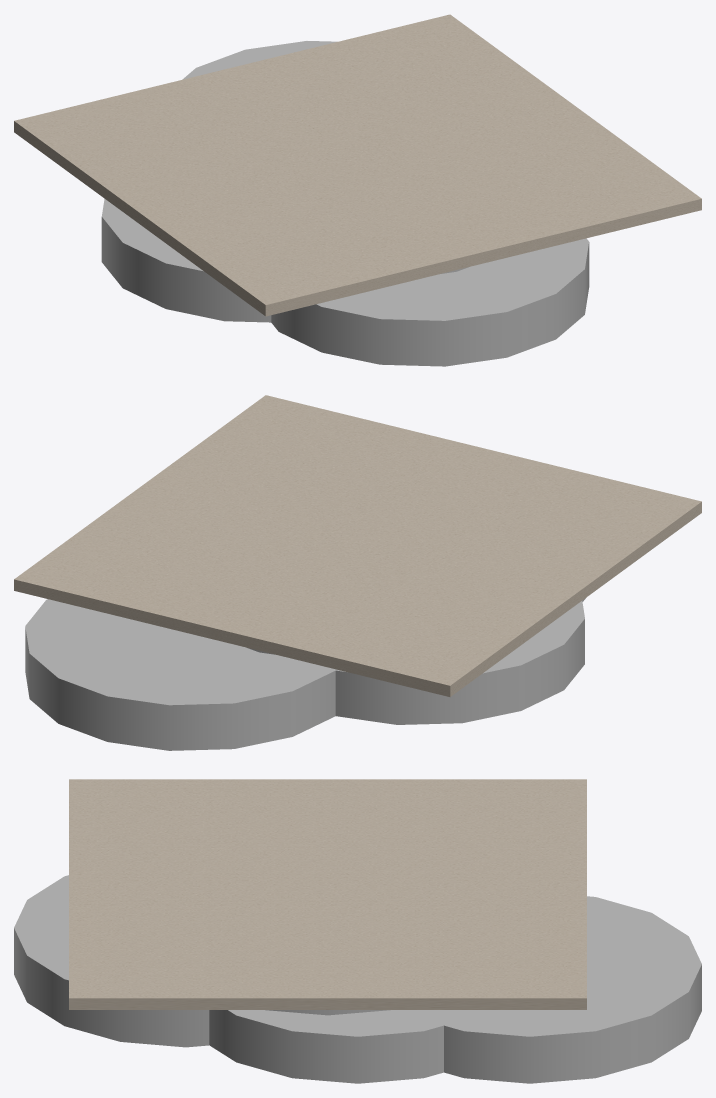
The model's file is cloud.fbx.
3 views of the same model, one above another, from view 1: azimuth 30°, elevation 25°; view 2: azimuth 150°, elevation 25°; view 3: azimuth 270°, elevation 25° (orthographic). The views are drawn at different scales.
Parts seen in each view (by area): view 1: Ceiling_Cloud; view 2: Ceiling_Cloud; view 3: Ceiling_Cloud.
Boxes of the visible parts, bbox=[...] form: Ceiling_Cloud: bbox=[14, 14, 701, 366]; Ceiling_Cloud: bbox=[14, 395, 701, 750]; Ceiling_Cloud: bbox=[14, 779, 701, 1083].
Bounding box in the file's own units: 2.01 × 0.374 × 2.66.
